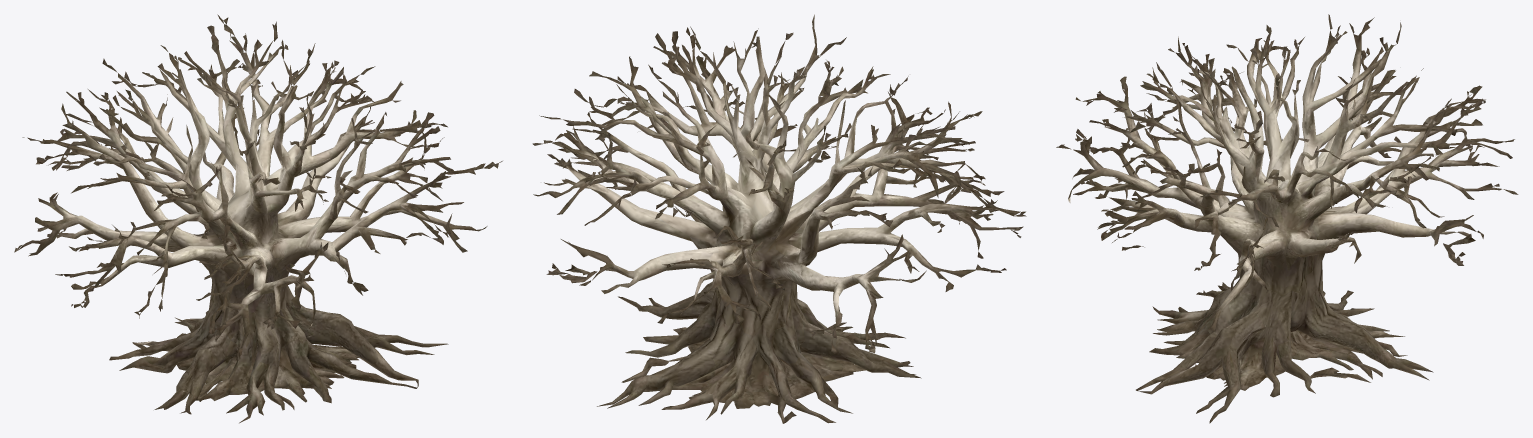
The model's file is prop-oak-winter.glb.
3 views of the same model, side by side, from view 1: azimuth 30°, elevation 25°; view 2: azimuth 150°, elevation 25°; view 3: azimuth 270°, elevation 25° (orthographic). The views are drawn at different scales.
Size of the model in its own units: 1.87 by 1.26 by 1.73.
Materials: 1 (1 with a texture image).
